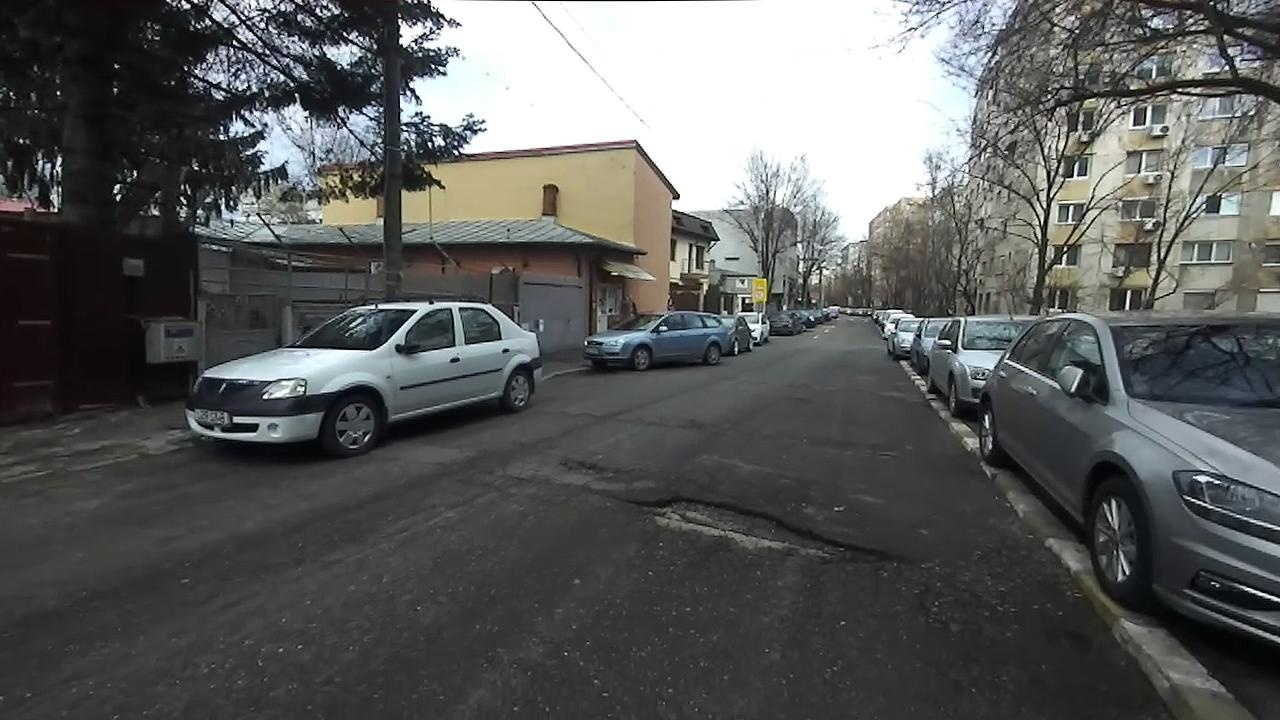pothole: (603, 492, 899, 559), (552, 453, 633, 481)
